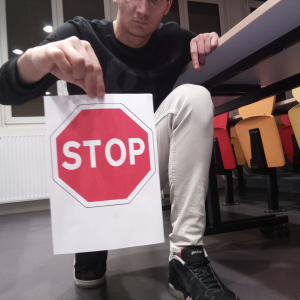stop: (51, 102, 156, 206)
